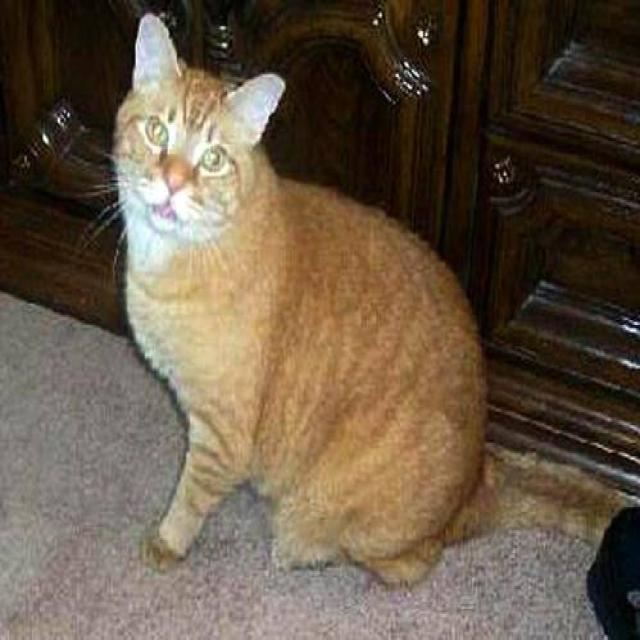cat: (80, 11, 638, 591)
